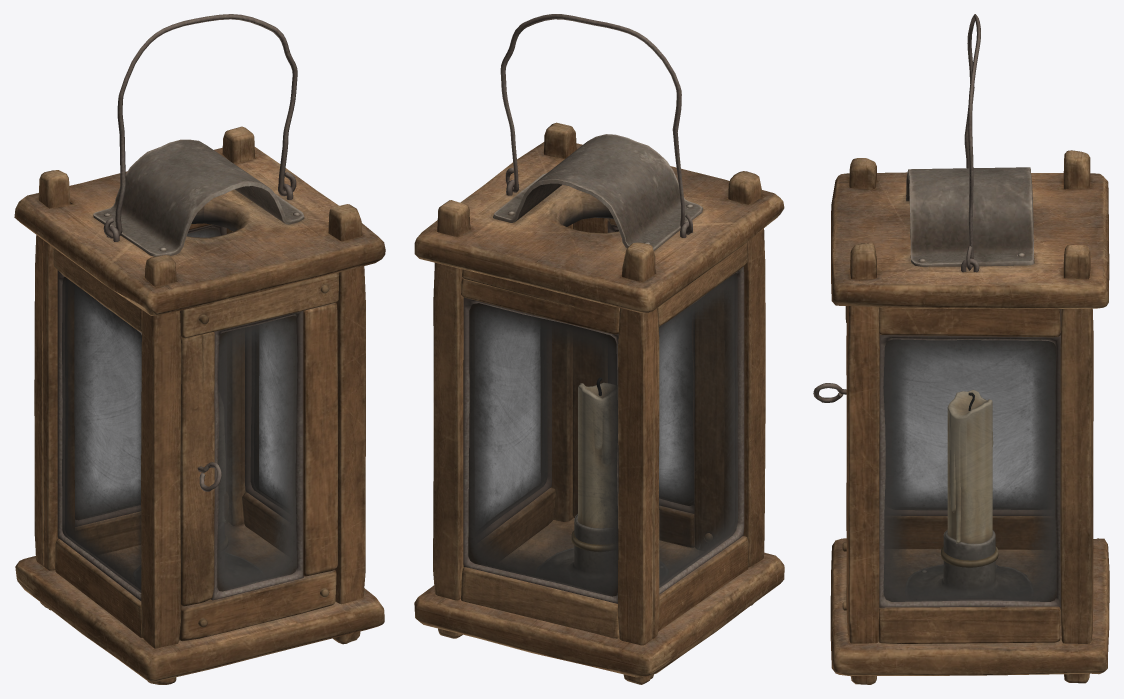
File: wooden_lantern_01.gltf
3 renders of one model, left to right at view 1: azimuth 30°, elevation 25°; view 2: azimuth 150°, elevation 25°; view 3: azimuth 270°, elevation 25°, orthographic.
Parts seen in each view (by area): view 1: wooden_lantern_01, wooden_lantern_01_door, wooden_lantern_01_handle; view 2: wooden_lantern_01, wooden_lantern_01_door, wooden_lantern_01_handle; view 3: wooden_lantern_01, wooden_lantern_01_handle, wooden_lantern_01_door.
Part boxes in pixels (bbox=[...]): wooden_lantern_01: bbox=[14, 126, 385, 684]; wooden_lantern_01_door: bbox=[179, 272, 339, 641]; wooden_lantern_01_handle: bbox=[103, 14, 297, 238]; wooden_lantern_01: bbox=[414, 122, 784, 684]; wooden_lantern_01_door: bbox=[573, 217, 724, 549]; wooden_lantern_01_handle: bbox=[500, 14, 692, 234]; wooden_lantern_01: bbox=[830, 150, 1109, 684]; wooden_lantern_01_handle: bbox=[964, 14, 980, 270]; wooden_lantern_01_door: bbox=[813, 306, 847, 610].
Bounding box in the file's own units: 0.221 × 0.5301 × 0.2347.
2 materials, 2 textured.
